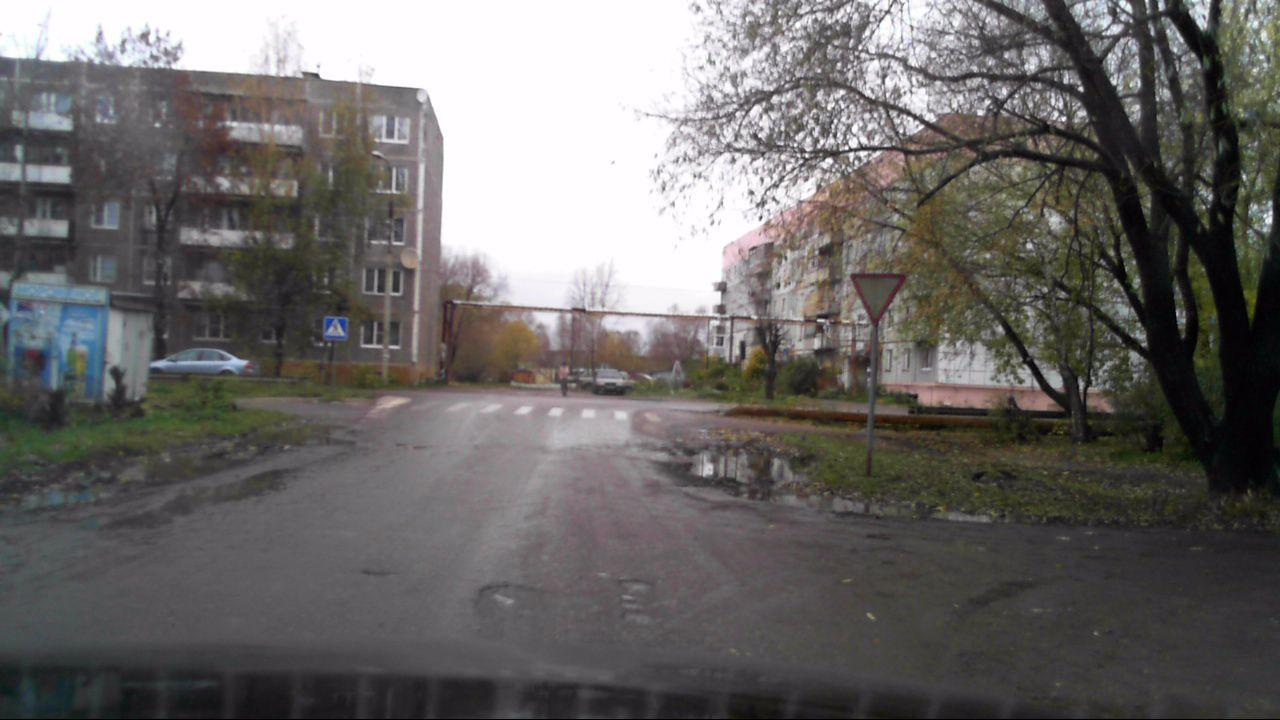2_4: (848, 271, 905, 327)
5_19_2: (323, 316, 350, 341)
